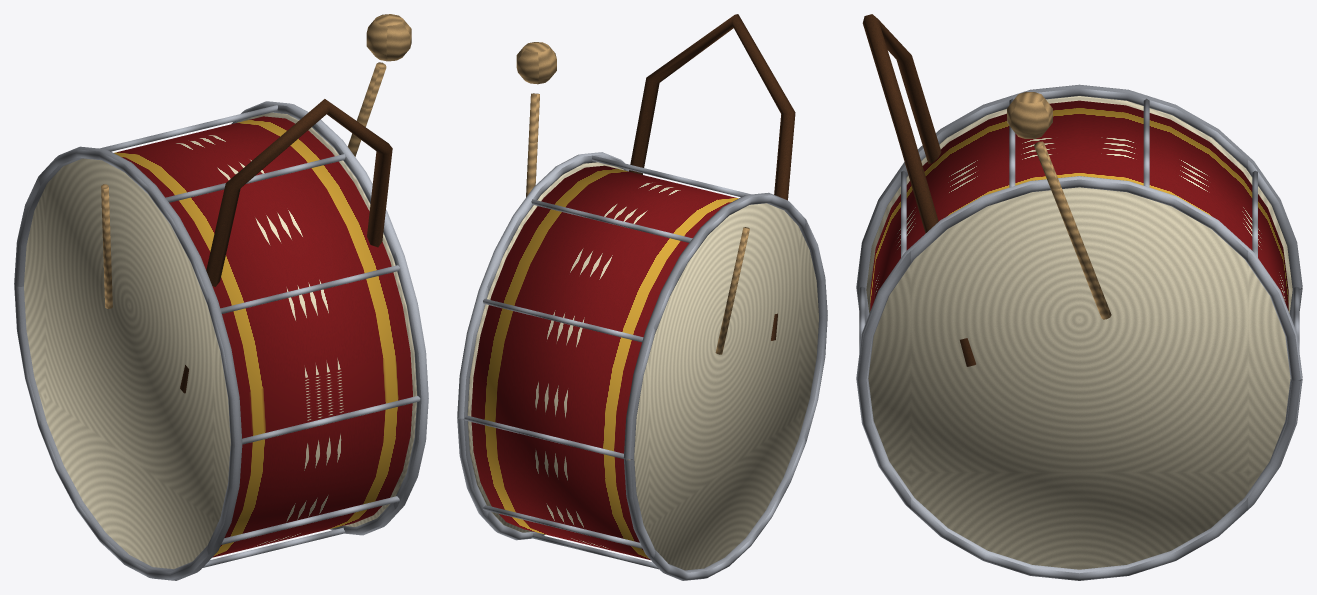
File: banda_tambora.obj
3 renders of one model, left to right at view 1: azimuth 30°, elevation 25°; view 2: azimuth 150°, elevation 25°; view 3: azimuth 270°, elevation 25°, orthographic. The views are drawn at different scales.
Visible parts, largest first — view 1: banda_tambora; view 2: banda_tambora; view 3: banda_tambora.
Part boxes in pixels (x1,y1,x2,y2): banda_tambora: (14, 14, 428, 580); banda_tambora: (457, 14, 827, 580); banda_tambora: (856, 14, 1302, 580).
Bounding box in the file's own units: 0.484 × 0.8527 × 0.6619.
5 materials, 5 textured.
